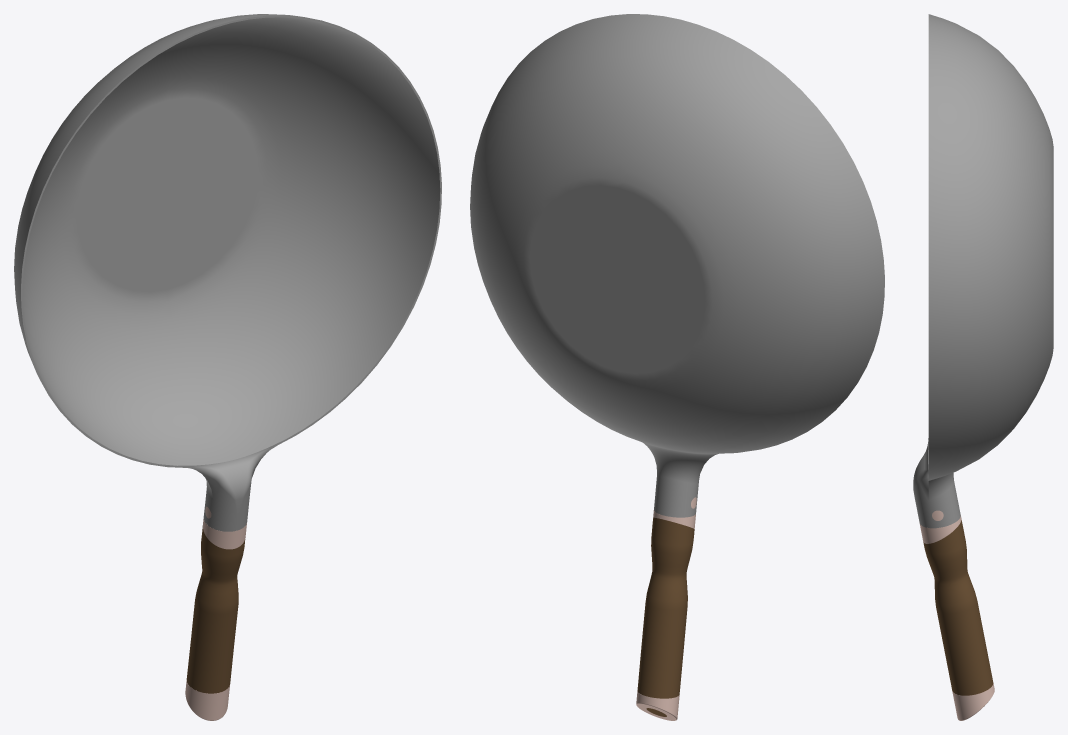
Rendered from Wok final project v10.fbx.
3 views of the same model, side by side, from view 1: azimuth 30°, elevation 25°; view 2: azimuth 150°, elevation 25°; view 3: azimuth 270°, elevation 25° (orthographic). The views are drawn at different scales.
Visible parts, largest first — view 1: Body2, Body7, Body1 (×2); view 2: Body2, Body7; view 3: Body2, Body7, Body1 (×2).
Boxes of the visible parts, x1=… form: Body2: x1=14, y1=14, x2=441, y2=531; Body7: x1=186, y1=525, x2=245, y2=693; Body1 (×2): x1=185, y1=519, x2=246, y2=720; Body2: x1=470, y1=14, x2=884, y2=517; Body7: x1=637, y1=517, x2=694, y2=716; Body2: x1=913, y1=14, x2=1053, y2=528; Body7: x1=923, y1=520, x2=993, y2=695; Body1 (×2): x1=920, y1=515, x2=994, y2=719.
Bounding box in the file's own units: 13.99 × 22.57 × 4.21.
